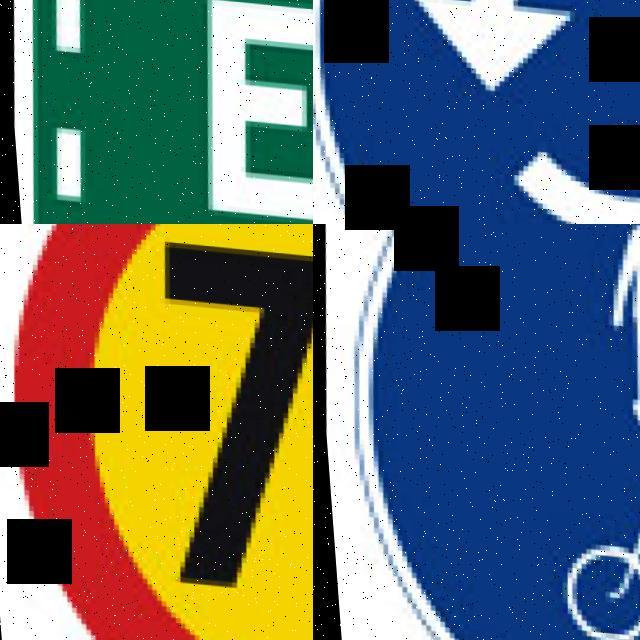16: (313, 0, 640, 224)
55: (0, 224, 313, 640)
91: (313, 224, 640, 640)
Road number sign: (0, 0, 313, 224)
Roundabout: (313, 0, 640, 224)
